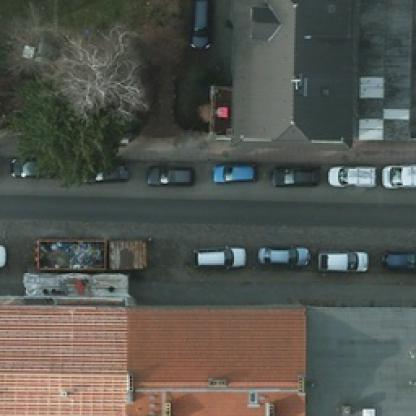car: (188, 244, 246, 270), (10, 152, 63, 180), (186, 0, 214, 52), (326, 162, 378, 188), (314, 247, 366, 272), (143, 162, 195, 186), (272, 161, 320, 187), (76, 159, 130, 182), (211, 162, 262, 184), (255, 244, 306, 266)
van: (0, 246, 3, 268)
